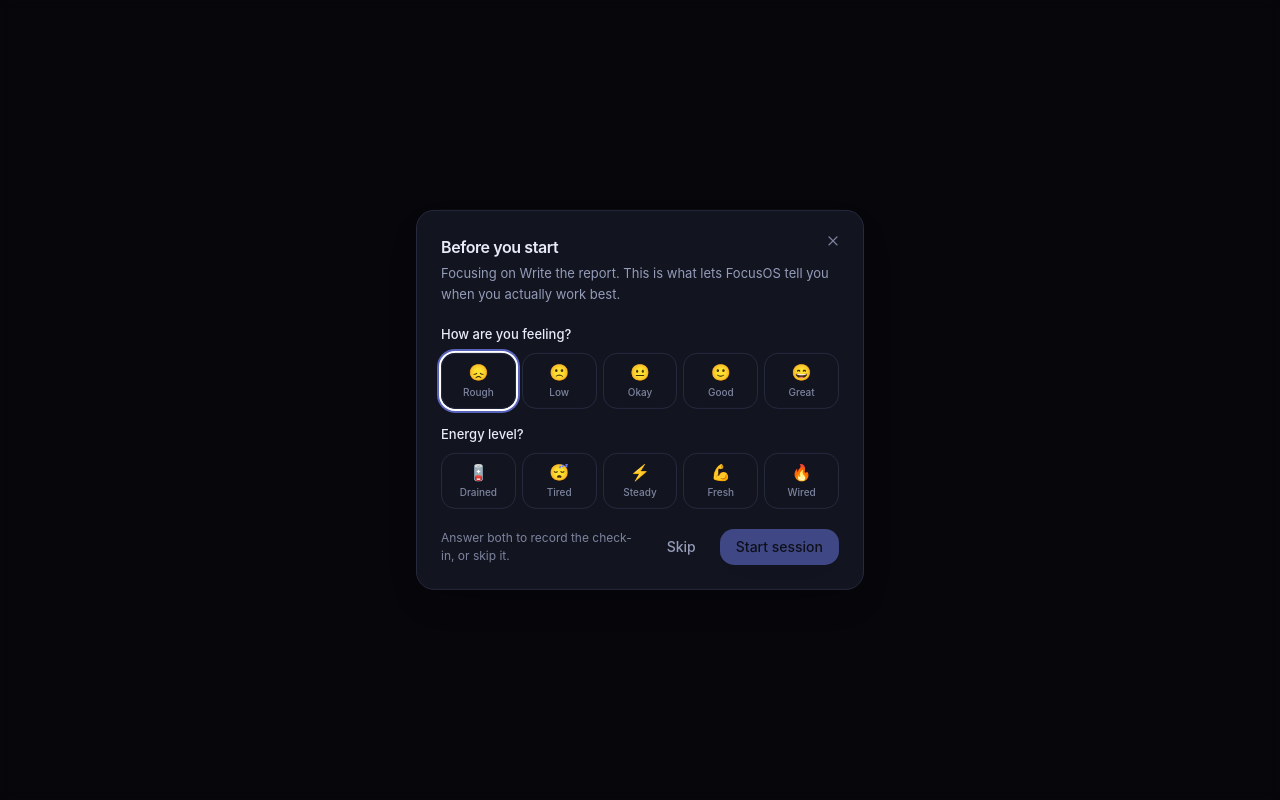
Test: MoodCheckDialog › will not start a recorded session until both scales are answered
This screenshot has width=1280, height=800.
Expected: the button "Start session" is disabled, [720,529,839,565]
Expected: the text "Answer both to record the check-in, or skip it." is shown, [441,529,643,565]
Click the button "🙂 Good" at [721, 381], box [683,353,758,409]
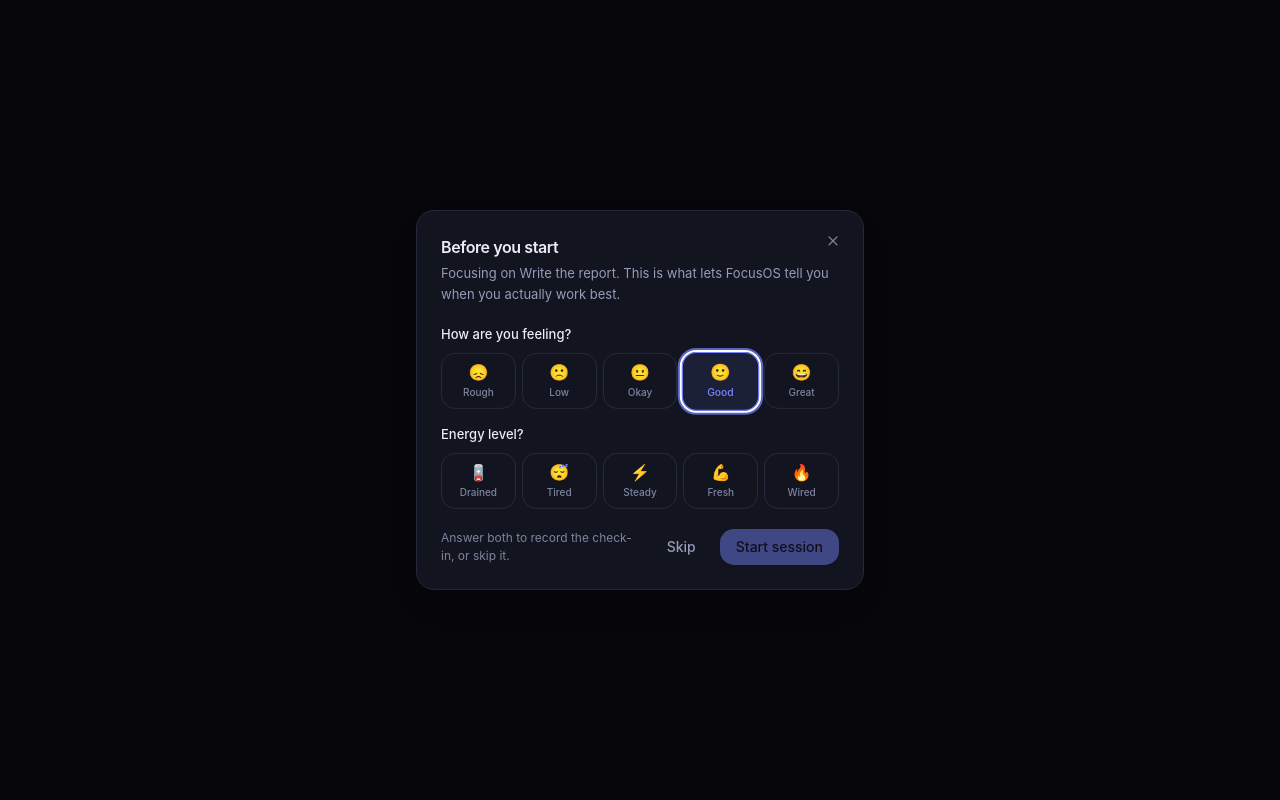
Expected: the button "Start session" is disabled, [720,529,839,565]
Click the button "😴 Tired" at [559, 481], box [522,453,597,509]
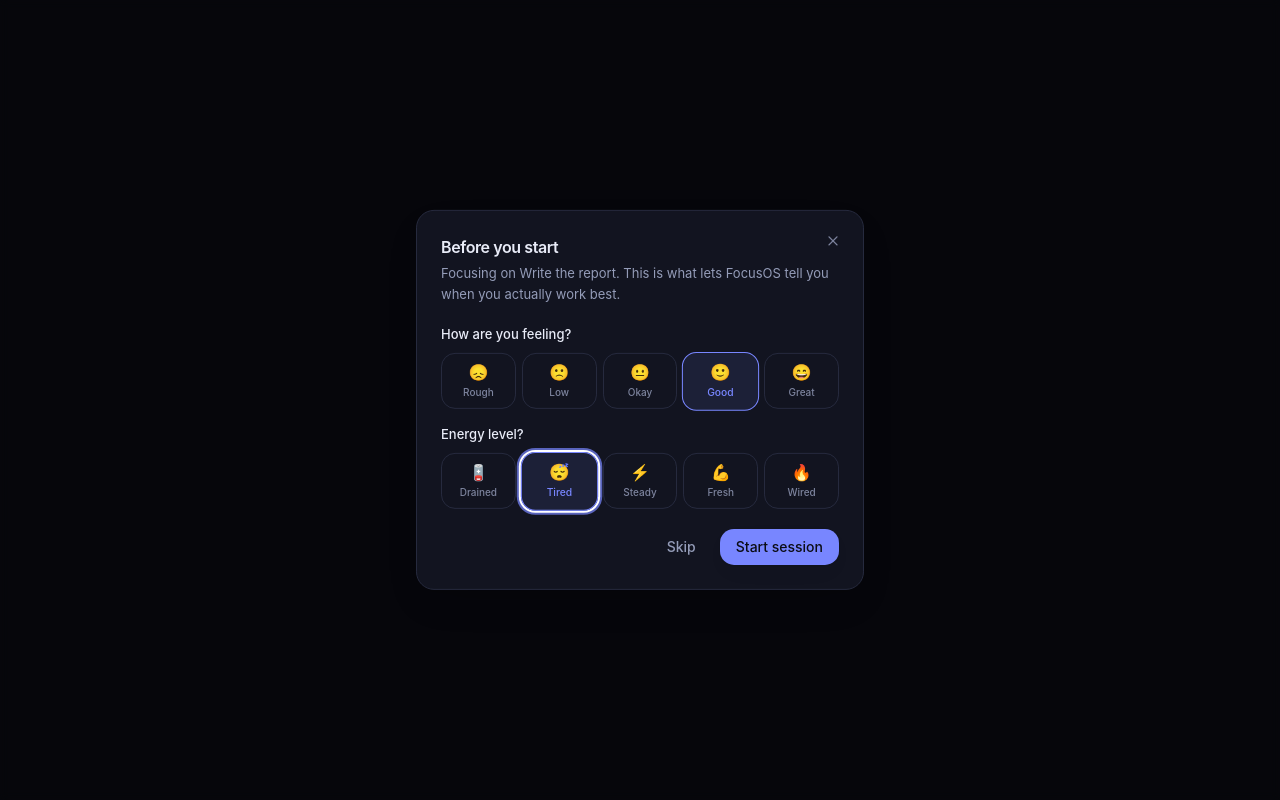
Expected: the button "Start session" is enabled, [720,529,839,565]
